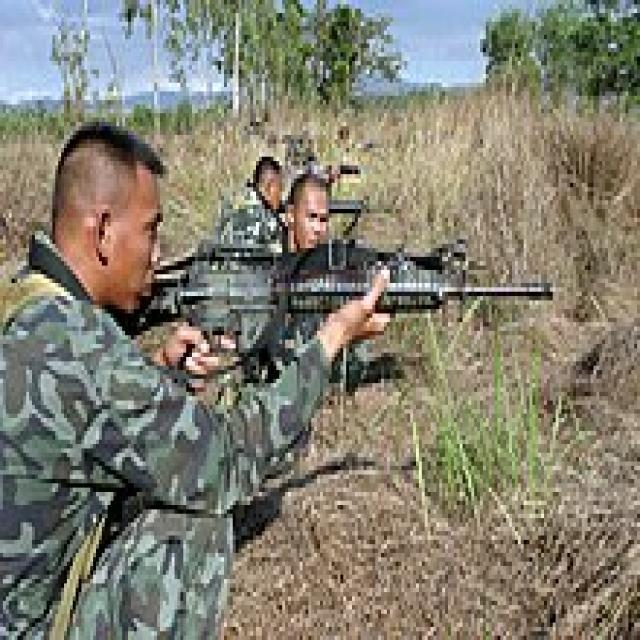m16: (148, 210, 566, 422)
